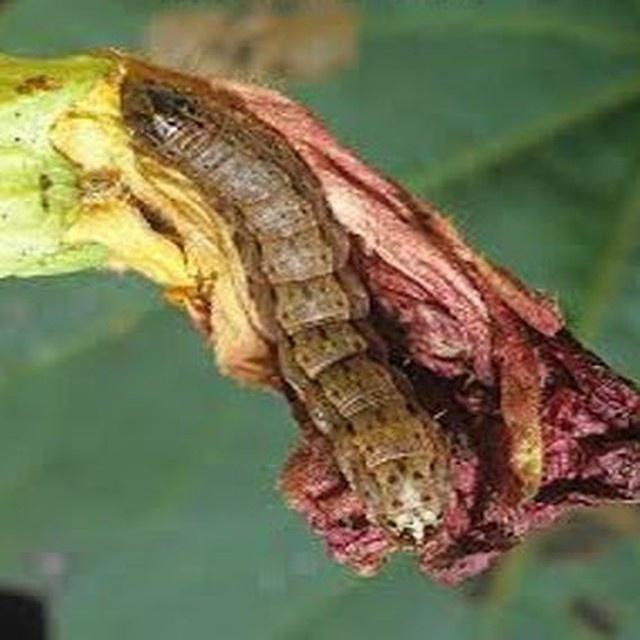gusano_cogollero: (154, 93, 438, 530)
